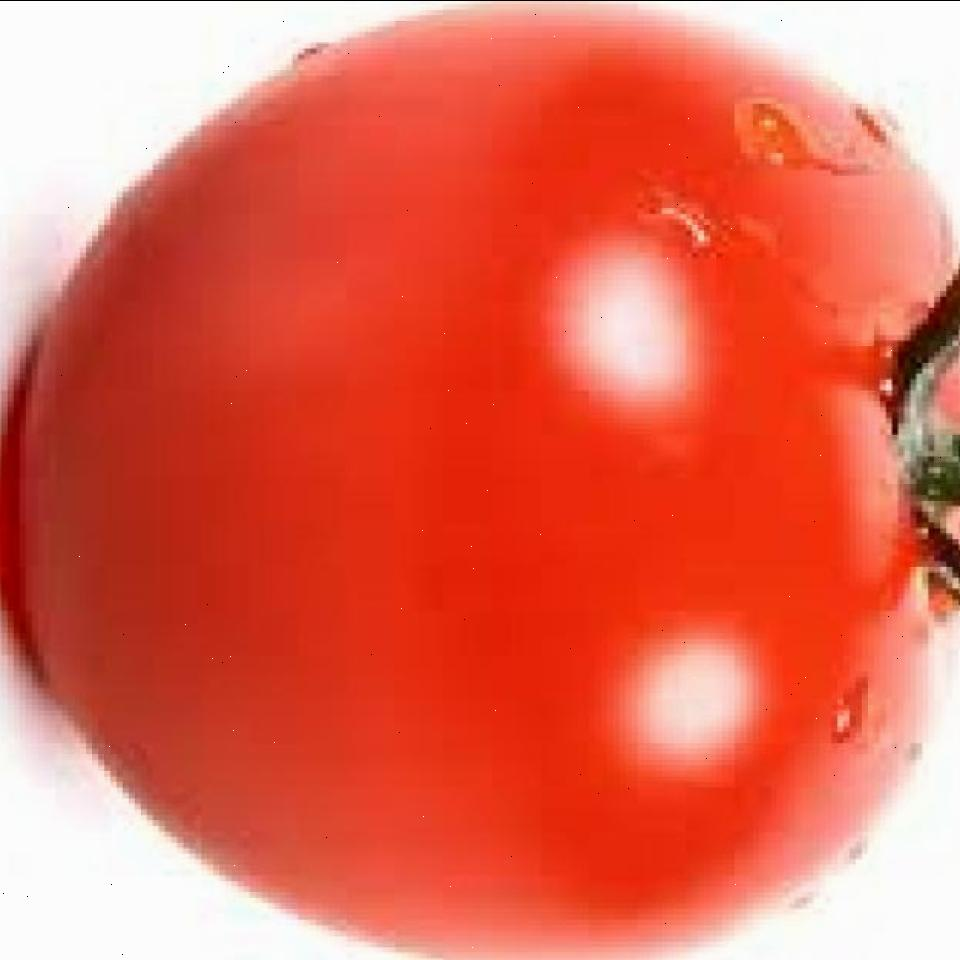Healthy: (0, 0, 940, 956)
